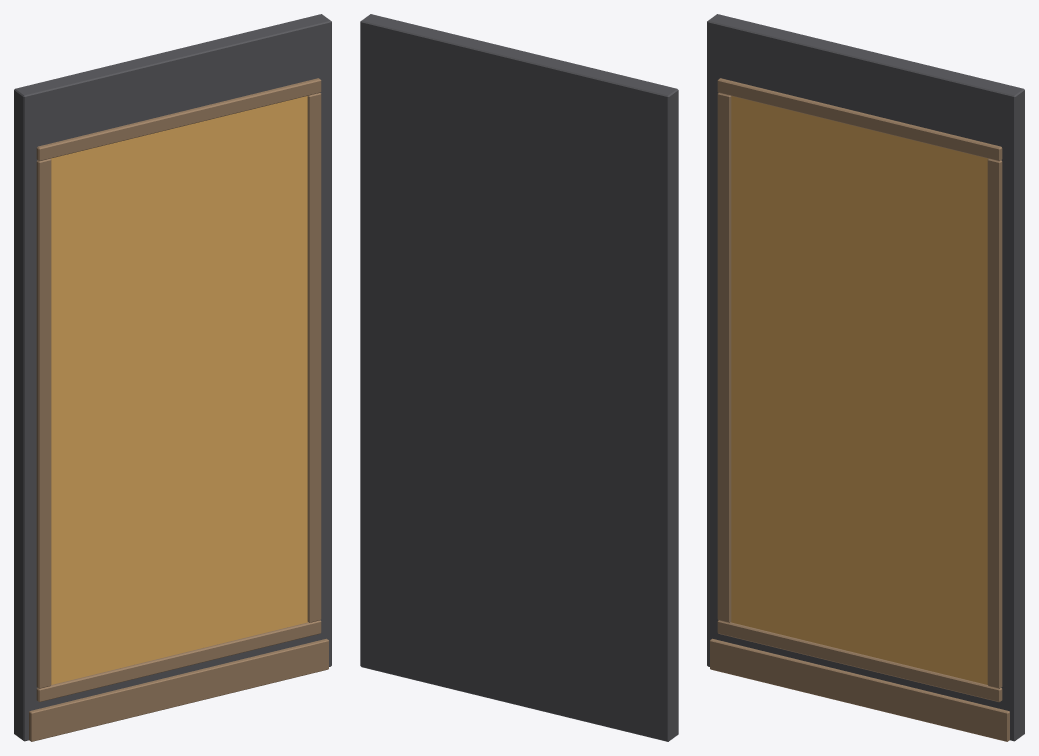
Rendered from music-recording-studio-and-instruments-acoustic-wall-p-cfebcc11__33816.glb.
3 views of the same model, side by side, from view 1: azimuth 30°, elevation 25°; view 2: azimuth 150°, elevation 25°; view 3: azimuth 330°, elevation 25° (orthographic).
Parts seen in each view (by area): view 1: acoustic-wall-panel-amber; view 2: acoustic-wall-panel-amber; view 3: acoustic-wall-panel-amber.
Boxes of the visible parts, x1,y1,x2,y2 form: acoustic-wall-panel-amber: (14,14,331,741); acoustic-wall-panel-amber: (360,14,678,741); acoustic-wall-panel-amber: (707,14,1024,741).
Bounding box in the file's own units: 1.2 × 2.4 × 0.0855.
